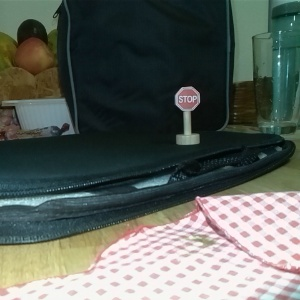stop sign: (172, 84, 203, 148)
